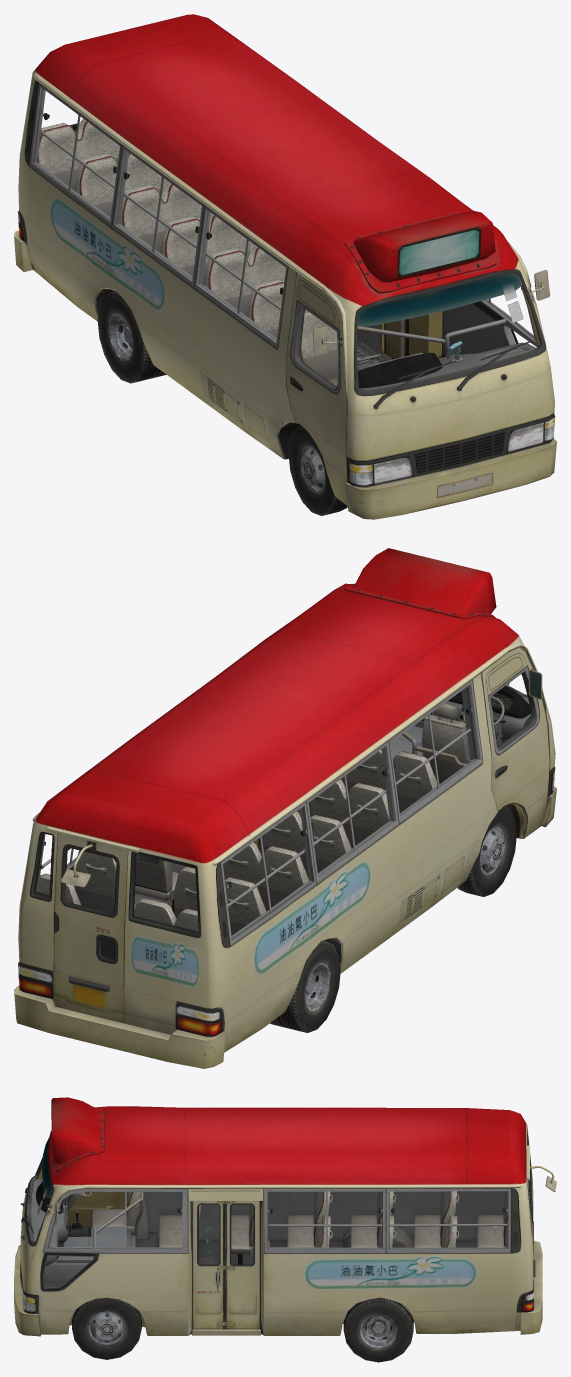
File: HK_Minibus_Red.fbx
The picture shows the model from 3 angles, top to bottom: view 1: azimuth 30°, elevation 25°; view 2: azimuth 150°, elevation 25°; view 3: azimuth 270°, elevation 25°; orthographic projection. The views are drawn at different scales.
Visible parts, largest first — view 1: T_Body, T_MiniBus_BodyINT, T_Rfdoor, T_MiniBus_Glass01, Rbtire_1, Rftire, T_MiniBus_LightSign, T_MiniBus_LightFR01, T_MiniBus_LightFL01, T_Lbsdoor_1, T_Lbsdoor_2; view 2: T_Body, T_MiniBus_BodyINT, T_Bdr_1, T_Rfdoor, Rbtire_1, Rftire, T_MiniBus_LightBR02; view 3: T_Body, T_MiniBus_BodyINT, Lbtire_1, Lftire, T_Lbsdoor_2, T_Lbsdoor_1, T_Rfdoor, T_MiniBus_Glass10, T_Bdr_1, T_MiniBus_Glass01.
Boxes of the visible parts, x1,y1,x2,y2 form: T_Body: (14, 14, 556, 519); T_MiniBus_BodyINT: (34, 89, 541, 390); T_Rfdoor: (286, 272, 347, 505); T_MiniBus_Glass01: (357, 273, 523, 325); Rbtire_1: (97, 290, 166, 383); Rftire: (288, 425, 347, 515); T_MiniBus_LightSign: (399, 230, 479, 274); T_MiniBus_LightFR01: (348, 456, 412, 486); T_MiniBus_LightFL01: (506, 414, 555, 453); T_Lbsdoor_1: (407, 315, 427, 355); T_Lbsdoor_2: (384, 319, 407, 359); T_Body: (14, 548, 556, 1068); T_MiniBus_BodyINT: (34, 686, 530, 960); T_Bdr_1: (53, 833, 128, 1022); T_Rfdoor: (481, 647, 549, 838); Rbtire_1: (270, 940, 340, 1032); Rftire: (457, 806, 516, 896); T_MiniBus_LightBR02: (175, 1015, 222, 1036); T_Body: (14, 1097, 542, 1336); T_MiniBus_BodyINT: (26, 1142, 530, 1326); Lbtire_1: (343, 1298, 413, 1362); Lftire: (72, 1298, 141, 1359); T_Lbsdoor_2: (225, 1201, 259, 1329); T_Lbsdoor_1: (192, 1201, 226, 1329); T_Rfdoor: (66, 1191, 124, 1227); T_MiniBus_Glass10: (40, 1252, 98, 1290); T_Bdr_1: (527, 1166, 556, 1280); T_MiniBus_Glass01: (37, 1138, 52, 1214).
Bounding box in the file's own units: 102 × 121 × 283.
Materials: 19 (19 with a texture image).
